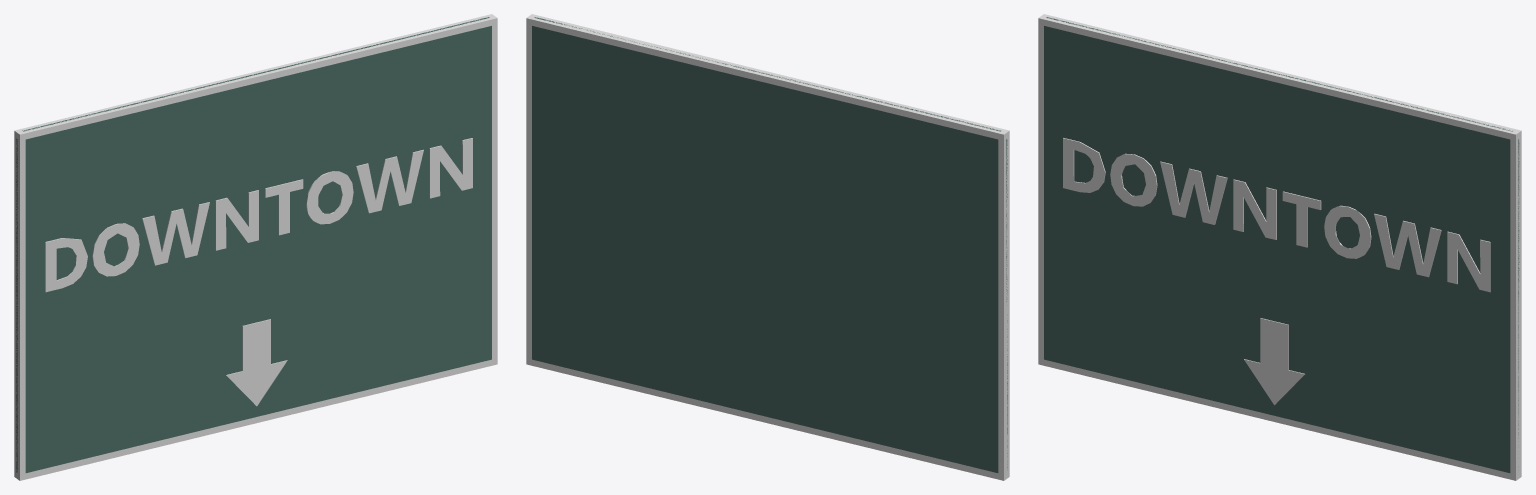
Rendered from SM_FloorProps_RoadSign_38.fbx.
3 renders of one model, left to right at view 1: azimuth 30°, elevation 25°; view 2: azimuth 150°, elevation 25°; view 3: azimuth 330°, elevation 25°, orthographic.
Parts seen in each view (by area): view 1: SM_FloorProps_RoadSign_38; view 2: SM_FloorProps_RoadSign_38; view 3: SM_FloorProps_RoadSign_38.
Boxes of the visible parts, x1=… form: SM_FloorProps_RoadSign_38: x1=14, y1=14, x2=497, y2=480; SM_FloorProps_RoadSign_38: x1=526, y1=14, x2=1009, y2=480; SM_FloorProps_RoadSign_38: x1=1038, y1=14, x2=1521, y2=480.
Size of the model in its own units: 2.33 by 1.61 by 0.0523.
